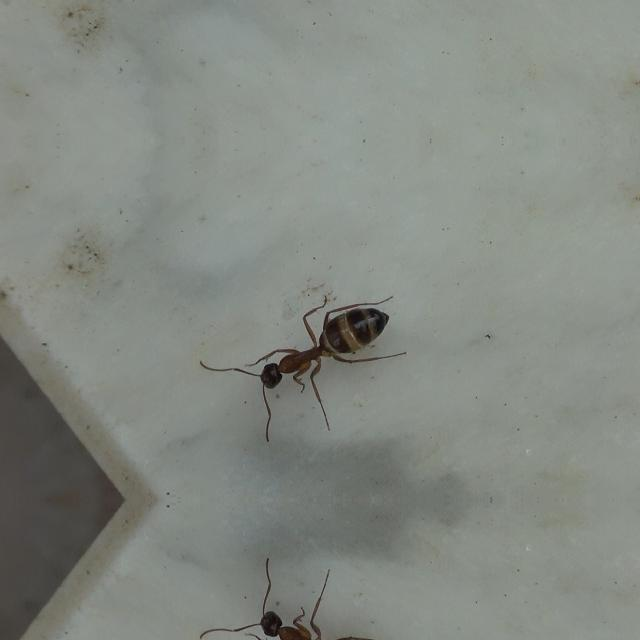Camponotus: (222, 293, 416, 409), (220, 590, 416, 640)
